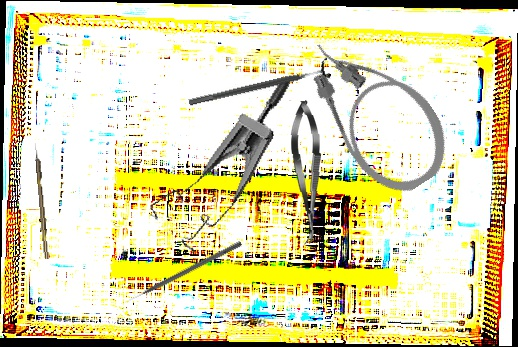Cannula: (291, 11, 464, 208)
Fixation Ring: (186, 56, 332, 114)
Hook Surgical: (123, 239, 243, 306), (33, 143, 50, 259)
Micro Scissor: (288, 99, 326, 246)
Speculum: (140, 50, 294, 265)
